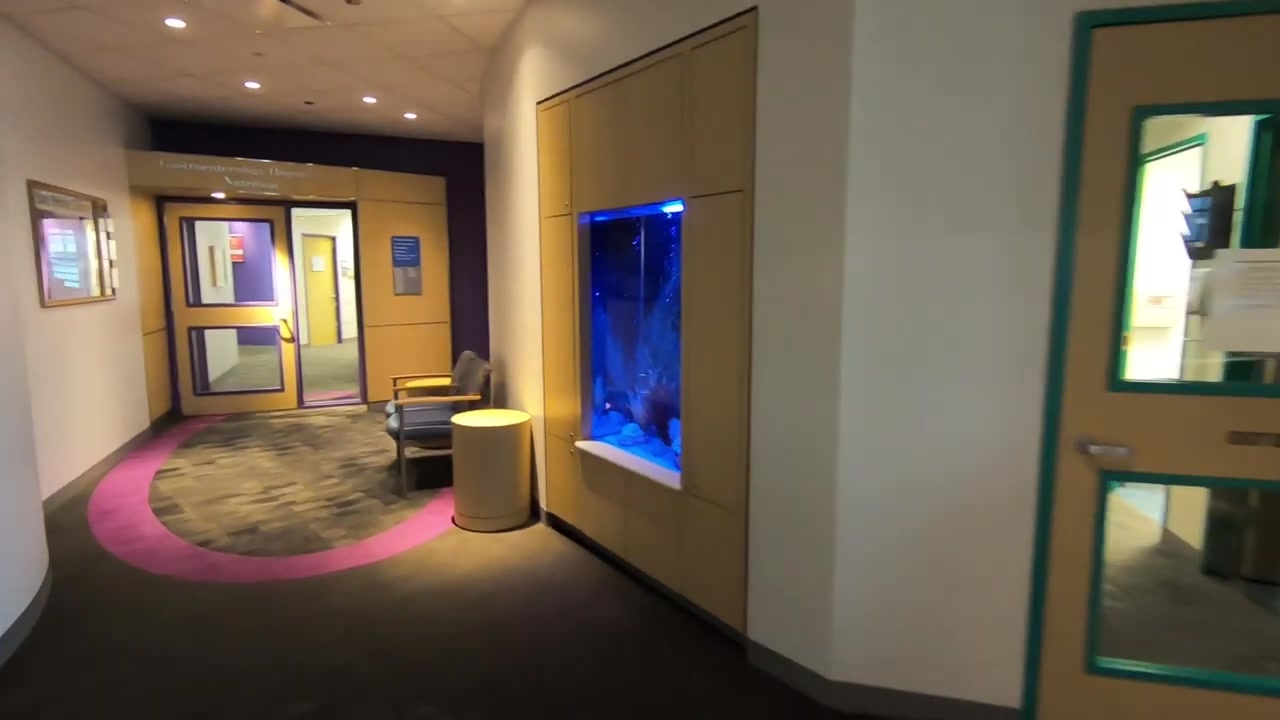chair: (384, 352, 492, 487)
door_handle: (1076, 438, 1134, 460), (270, 314, 292, 325)
table: (449, 410, 534, 532)
